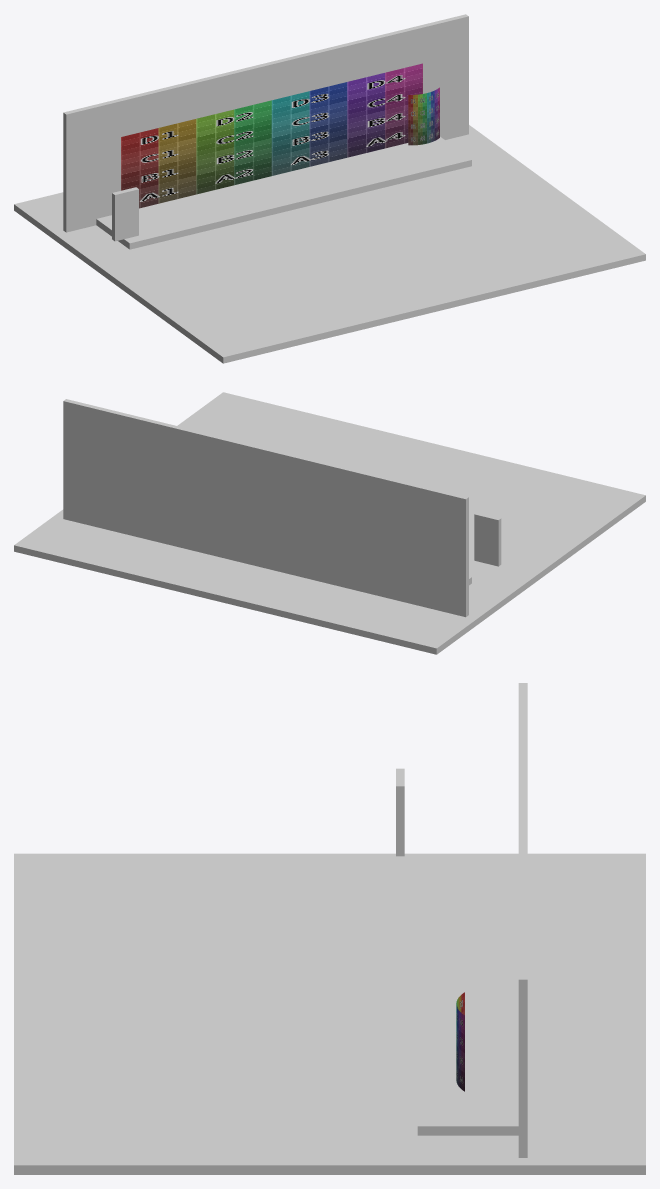
3 renders of one model, top to bottom at view 1: azimuth 30°, elevation 25°; view 2: azimuth 150°, elevation 25°; view 3: azimuth 270°, elevation 25°, orthographic. The views are drawn at different scales.
Parts seen in each view (by area): view 1: Venue Floor.001, Architecture Wall.001, SCR001.001, Stage.001, TRAINING_Curved_Receiver.001, TRAINING_Occluder.001; view 2: Architecture Wall.001, Venue Floor.001, TRAINING_Occluder.001; view 3: Venue Floor.001, Stage.001, Architecture Wall.001, TRAINING_Curved_Receiver.001, TRAINING_Occluder.001.
Part boxes in pixels (bbox=[...]): Venue Floor.001: bbox=[14, 125, 645, 363]; Architecture Wall.001: bbox=[63, 14, 468, 232]; SCR001.001: bbox=[121, 63, 422, 208]; Stage.001: bbox=[96, 136, 471, 249]; TRAINING_Curved_Receiver.001: bbox=[408, 87, 439, 145]; TRAINING_Occluder.001: bbox=[112, 187, 138, 241]; Architecture Wall.001: bbox=[63, 399, 468, 617]; Venue Floor.001: bbox=[14, 392, 645, 654]; TRAINING_Occluder.001: bbox=[474, 512, 501, 566]; Venue Floor.001: bbox=[14, 853, 645, 1174]; Stage.001: bbox=[417, 874, 518, 1135]; Architecture Wall.001: bbox=[518, 683, 527, 1157]; TRAINING_Curved_Receiver.001: bbox=[456, 992, 464, 1091]; TRAINING_Occluder.001: bbox=[396, 768, 404, 856].
Size of the model in its own units: 21 by 5.9 by 18.
Materials: 1 (1 with a texture image).
